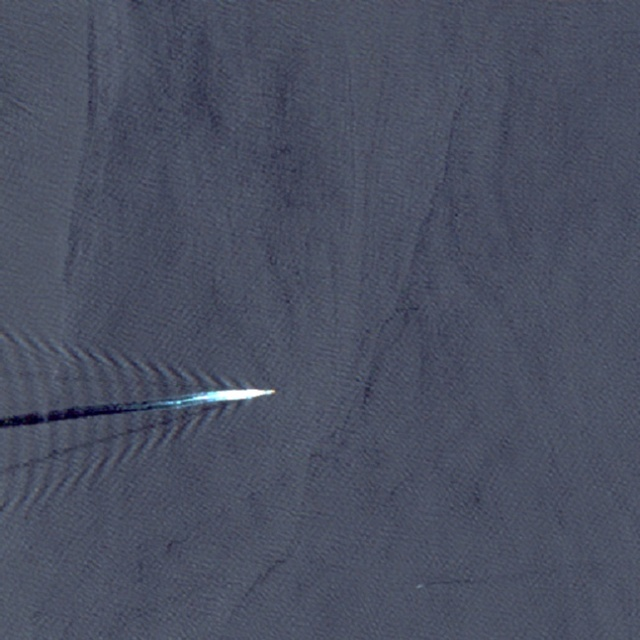wake: (80, 333, 287, 467)
